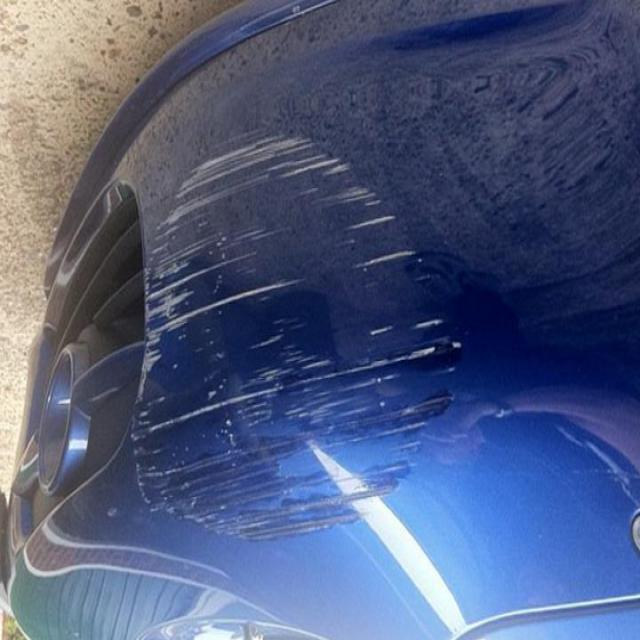scratch: (124, 122, 459, 537)
